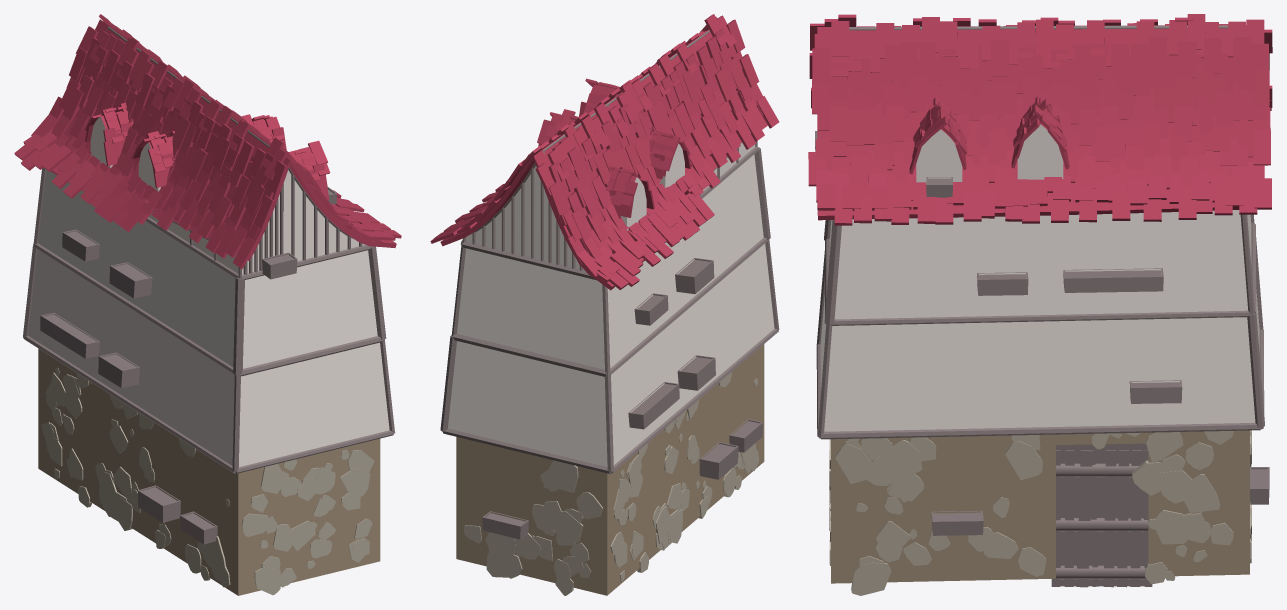
The model's file is HouseOne_Phase3_PBR.glb.
3 renders of one model, left to right at view 1: azimuth 30°, elevation 25°; view 2: azimuth 150°, elevation 25°; view 3: azimuth 270°, elevation 25°, orthographic. The views are drawn at different scales.
Visible parts, largest first — view 1: HouseOne_PBR_export_copy; view 2: HouseOne_PBR_export_copy; view 3: HouseOne_PBR_export_copy.
Boxes of the visible parts, left/top/right/bottom form: HouseOne_PBR_export_copy: left=14, top=14, right=401, bottom=595; HouseOne_PBR_export_copy: left=430, top=14, right=779, bottom=595; HouseOne_PBR_export_copy: left=808, top=14, right=1272, bottom=595.
Bounding box in the file's own units: 3.93 × 8.15 × 6.49.
